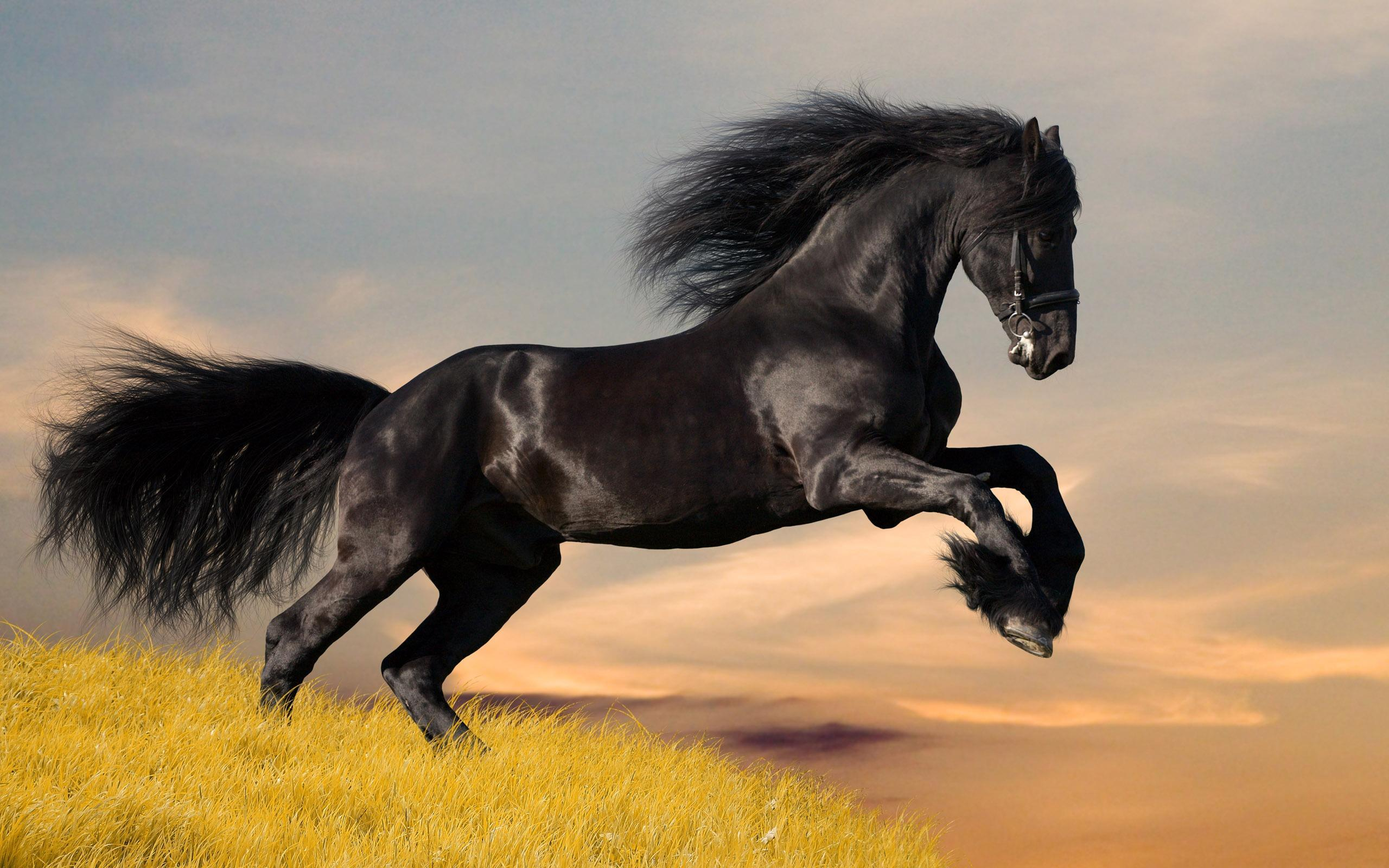horse: (6, 75, 1132, 765)
